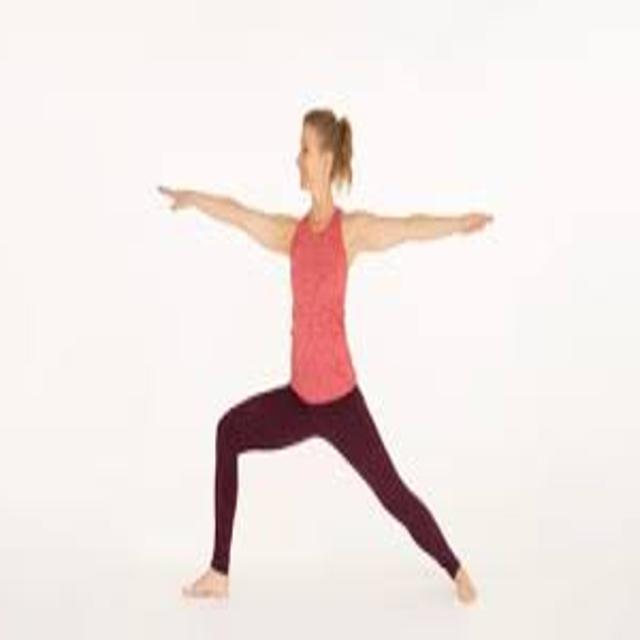Warrior_II: (146, 98, 495, 607)
